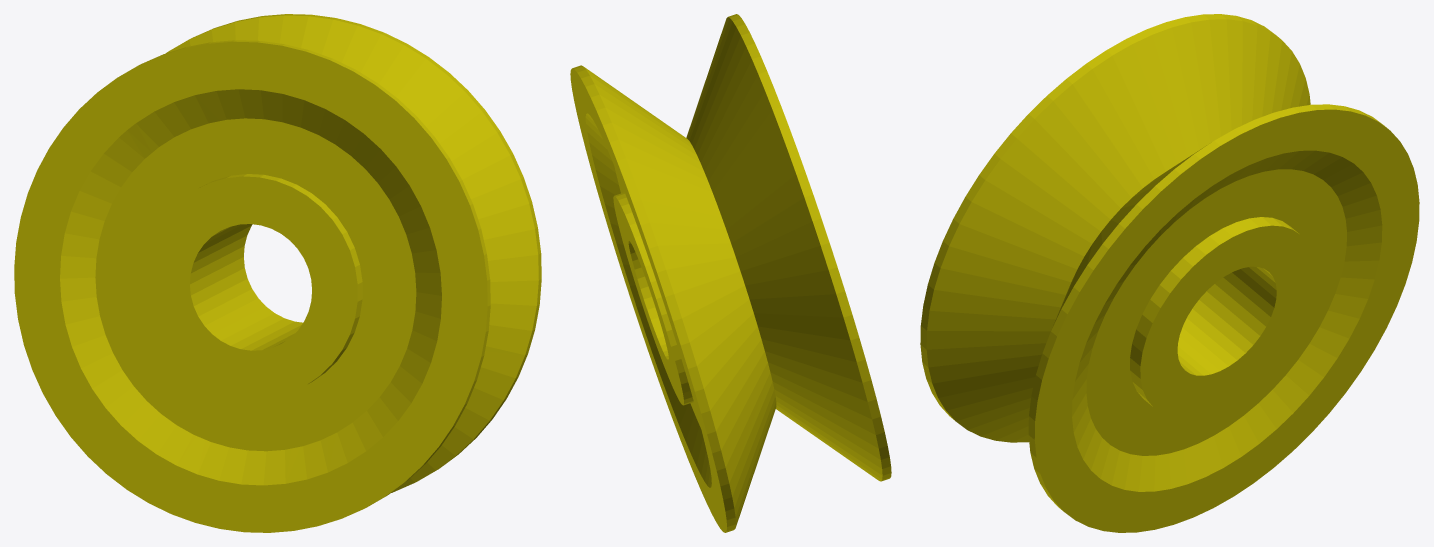
Rendered from TirePulley.glb.
3 views of the same model, side by side, from view 1: azimuth 30°, elevation 25°; view 2: azimuth 150°, elevation 25°; view 3: azimuth 270°, elevation 25° (orthographic). The views are drawn at different scales.
Visible parts, largest first — view 1: defaultobject; view 2: defaultobject; view 3: defaultobject.
Part boxes in pixels (bbox=[...]): defaultobject: bbox=[14, 14, 541, 532]; defaultobject: bbox=[570, 14, 891, 532]; defaultobject: bbox=[920, 14, 1419, 532].
Bounding box in the file's own units: 36.55 × 40.77 × 38.37.
